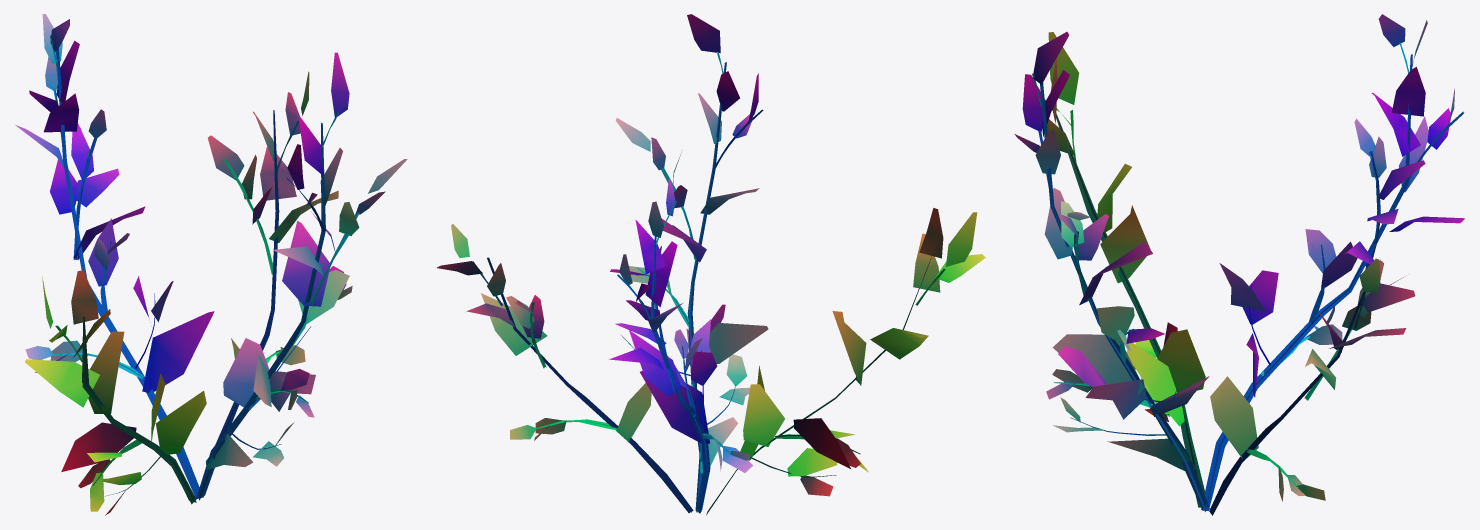
Rendered from Creeping_Saltbush_thckfiqr_Mid_thckfiqr_VarC_LOD1.fbx.
3 renders of one model, left to right at view 1: azimuth 30°, elevation 25°; view 2: azimuth 150°, elevation 25°; view 3: azimuth 270°, elevation 25°, orthographic. The views are drawn at different scales.
Parts seen in each view (by area): view 1: _8c2e_VarC_LOD2; view 2: _8c2e_VarC_LOD2; view 3: _8c2e_VarC_LOD2.
Boxes of the visible parts, x1,y1,x2,y2 form: _8c2e_VarC_LOD2: [15, 14, 407, 515]; _8c2e_VarC_LOD2: [437, 14, 985, 515]; _8c2e_VarC_LOD2: [1014, 14, 1464, 515].
Bounding box in the file's own units: 35.67 × 38.89 × 30.65.
